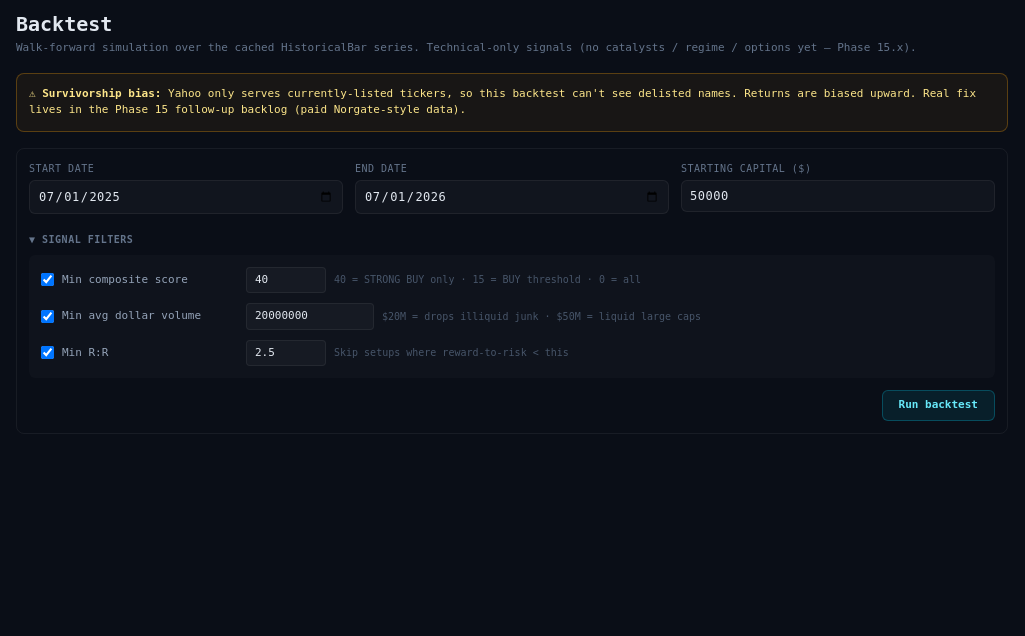
Test: BacktestPage › shows 'No trades generated' note when result is empty
Click the button "Run backtest".
click(938, 405)  # box [882,390,995,420]
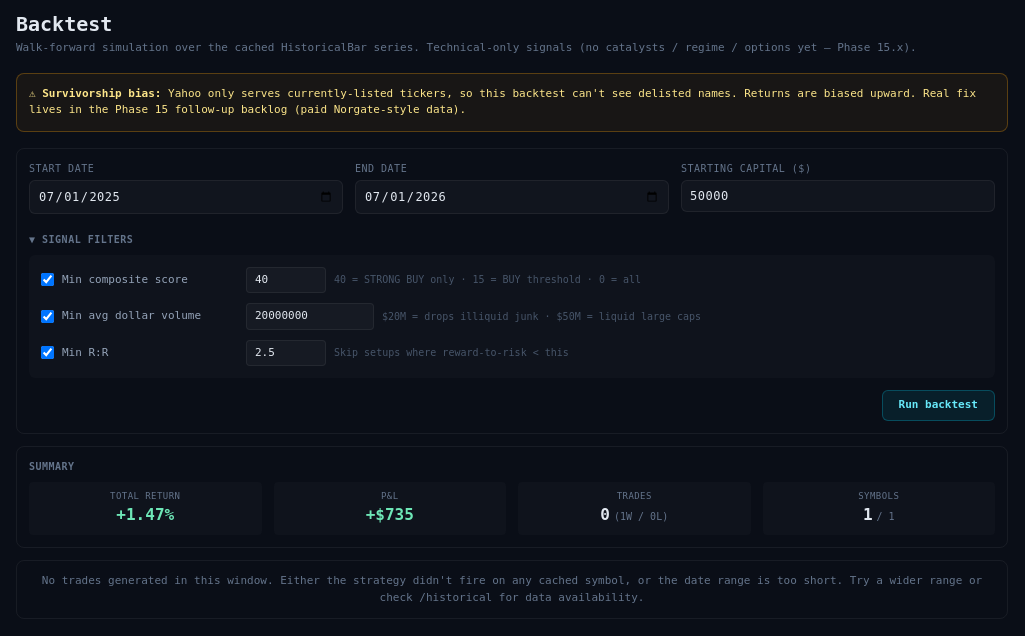
Now the text "No trades generated" is shown, box [42,574,982,604]
